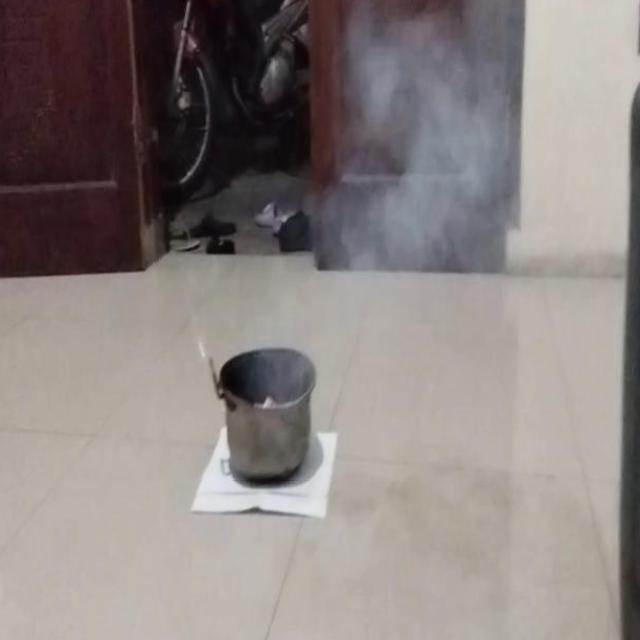fire: (321, 1, 521, 318)
